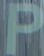Parking: (4, 2, 43, 54)
